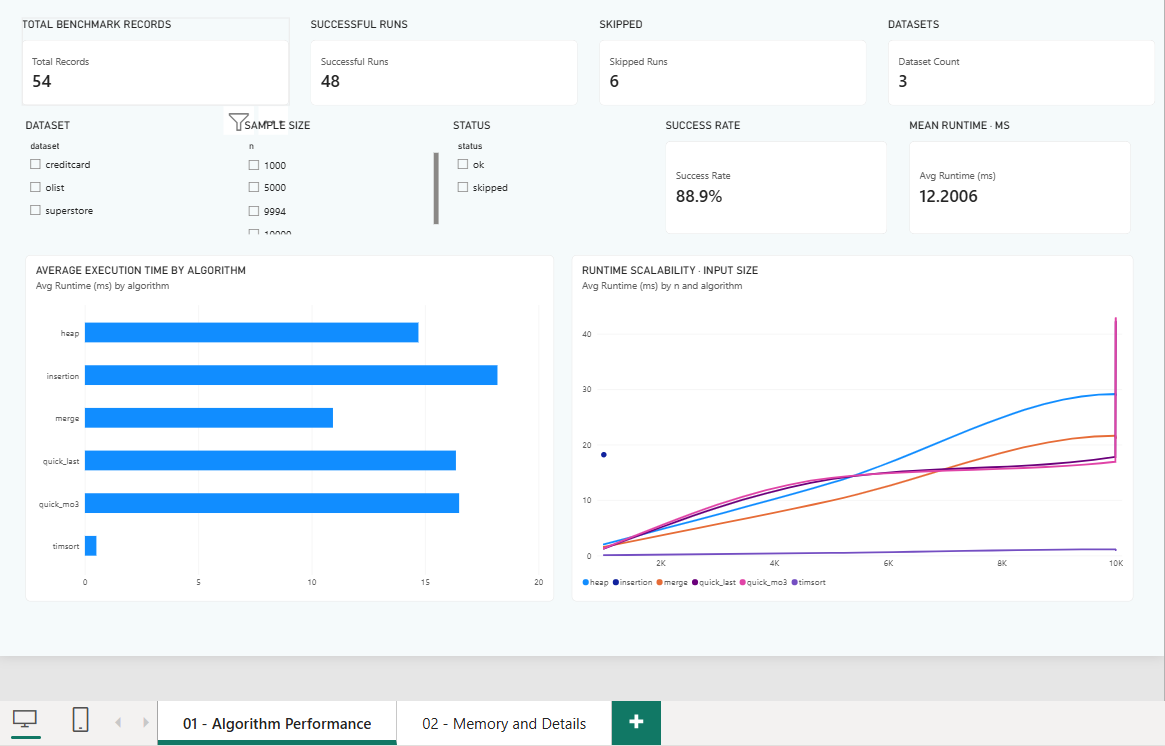

The dashboard page shown, as its layout file describes it:
{"tool":"powerbi","page":{"name":"01 - Algorithm Performance","canvas":[1920,1080],"ordinal":0},"visuals":[{"type":"cardVisual","title":"TOTAL BENCHMARK RECORDS","fields":{"Data":["SortingBenchmark.Total Records"]},"box":[40,28,440,145],"z":1000},{"type":"cardVisual","title":"SUCCESSFUL RUNS","fields":{"Data":["SortingBenchmark.Successful Runs"]},"box":[515,28,440,145],"z":1001},{"type":"cardVisual","title":"SKIPPED","fields":{"Data":["SortingBenchmark.Skipped Runs"]},"box":[990,28,440,145],"z":1002},{"type":"cardVisual","title":"DATASETS","fields":{"Data":["SortingBenchmark.Dataset Count"]},"box":[1465,28,440,145],"z":1003},{"type":"slicer","title":"DATASET","fields":{"Values":["SortingBenchmark.dataset"]},"box":[45,196,340,190],"z":1004},{"type":"slicer","title":"SAMPLE SIZE","fields":{"Values":["SortingBenchmark.n"]},"box":[405,196,320,190],"z":1005},{"type":"slicer","title":"STATUS","fields":{"Values":["SortingBenchmark.status"]},"box":[750,196,310,190],"z":1006},{"type":"cardVisual","title":"SUCCESS RATE","fields":{"Data":["SortingBenchmark.Success Rate"]},"box":[1100,196,365,190],"z":1007},{"type":"cardVisual","title":"MEAN RUNTIME · MS","fields":{"Data":["SortingBenchmark.Avg Runtime (ms)"]},"box":[1500,196,365,190],"z":1008},{"type":"clusteredBarChart","title":"AVERAGE EXECUTION TIME BY ALGORITHM","fields":{"Category":["SortingBenchmark.algorithm"],"Y":["SortingBenchmark.Avg Runtime (ms)"]},"box":[45,420,870,570],"z":1009},{"type":"lineChart","title":"RUNTIME SCALABILITY · INPUT SIZE","fields":{"Category":["SortingBenchmark.n"],"Series":["SortingBenchmark.algorithm"],"Y":["SortingBenchmark.Avg Runtime (ms)"]},"box":[945,420,925,570],"z":1010}]}

Visuals, with their boxes on the page's 1920x1080 design canvas (x1, y1, x2, y2). These are canvas units, not pixel positions in the 1165x746 screenshot, which may show the page scaled, cropped or inside an application window:
"TOTAL BENCHMARK RECORDS" cardVisual: box=[40, 28, 480, 173]
"SUCCESSFUL RUNS" cardVisual: box=[515, 28, 955, 173]
"SKIPPED" cardVisual: box=[990, 28, 1430, 173]
"DATASETS" cardVisual: box=[1465, 28, 1905, 173]
"DATASET" slicer: box=[45, 196, 385, 386]
"SAMPLE SIZE" slicer: box=[405, 196, 725, 386]
"STATUS" slicer: box=[750, 196, 1060, 386]
"SUCCESS RATE" cardVisual: box=[1100, 196, 1465, 386]
"MEAN RUNTIME · MS" cardVisual: box=[1500, 196, 1865, 386]
"AVERAGE EXECUTION TIME BY ALGORITHM" clusteredBarChart: box=[45, 420, 915, 990]
"RUNTIME SCALABILITY · INPUT SIZE" lineChart: box=[945, 420, 1870, 990]
